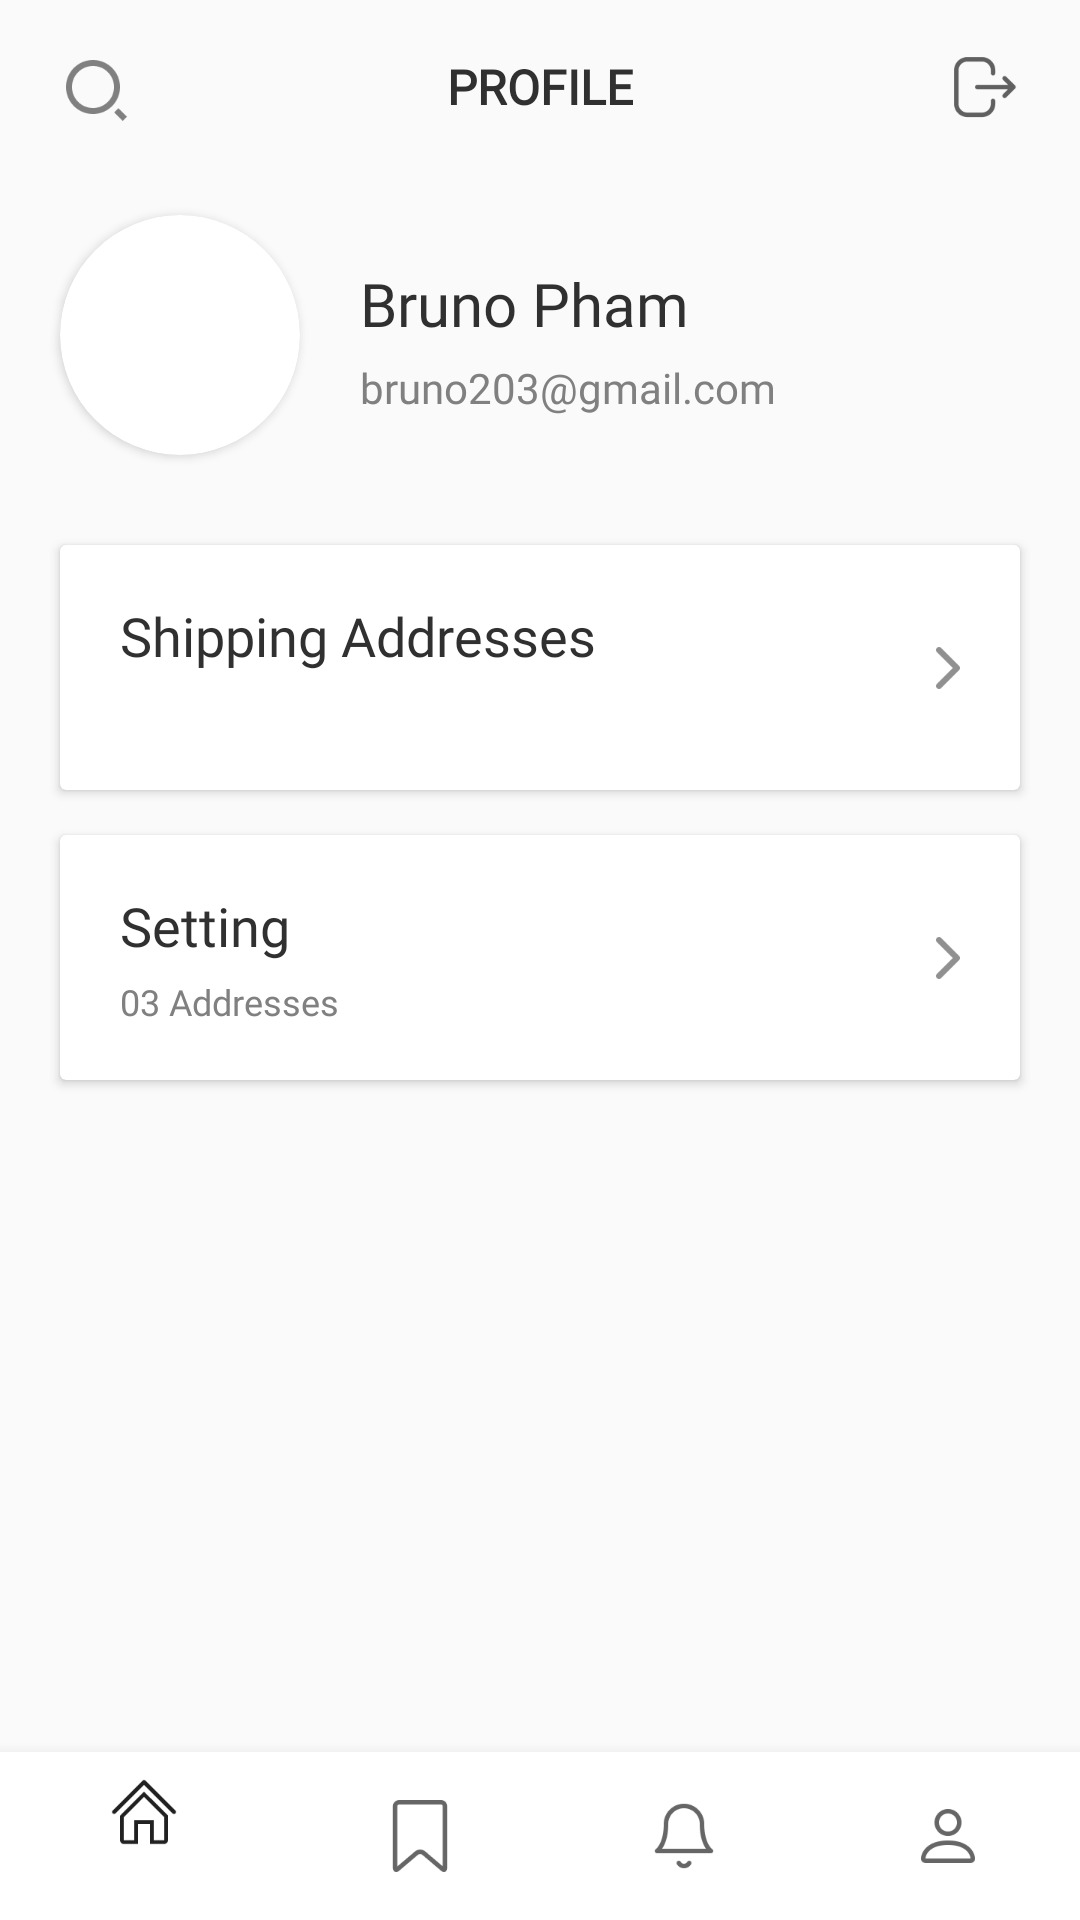

Screen size 1080 x 1920. Icon name, then its center in pixels as (x=x, y=y):
right: (x=948, y=668), (x=948, y=958)
search: (x=96, y=90)
